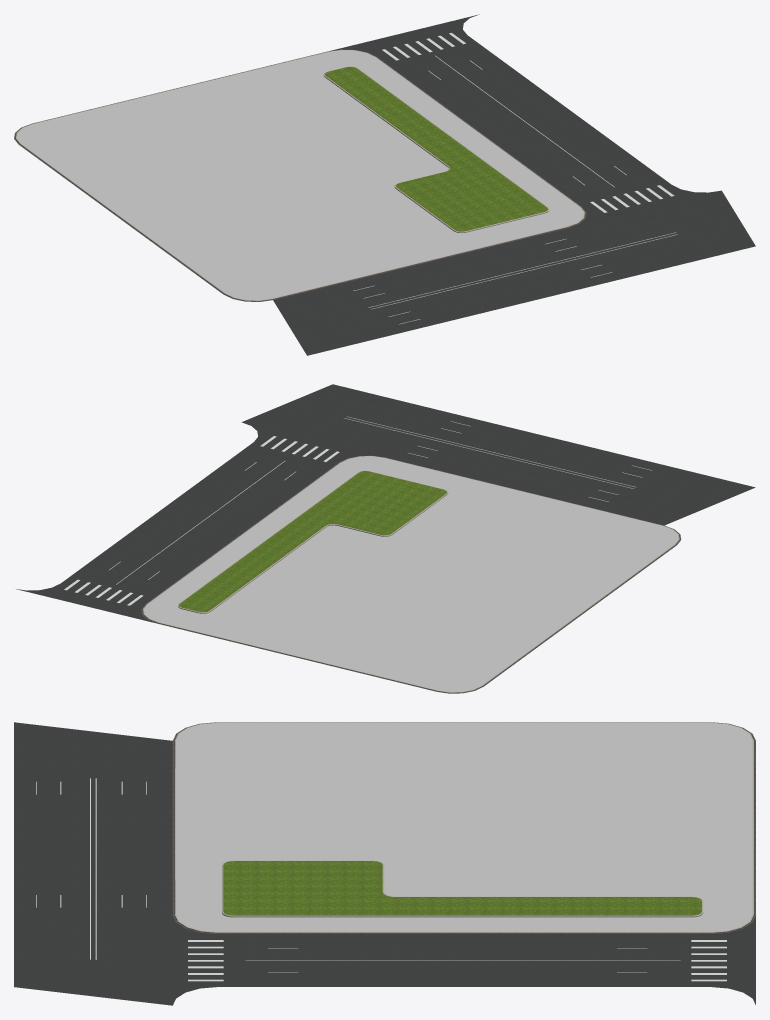
Rendered from New_Terrain_Area_22.fbx.
The picture shows the model from 3 angles, top to bottom: view 1: azimuth 30°, elevation 25°; view 2: azimuth 150°, elevation 25°; view 3: azimuth 270°, elevation 25°; orthographic projection. The views are drawn at different scales.
Visible parts, largest first — view 1: Area_22, Road_15, Road_Alpha_49, Road_Alpha_54.001; view 2: Area_22, Road_15, Road_Alpha_49, Road_Alpha_54.001; view 3: Area_22, Road_15, Road_Alpha_49, Road_Alpha_54.001.
Boxes of the visible parts, <box> form: Area_22: <box>14,49,586,301</box>; Road_15: <box>273,14,755,355</box>; Road_Alpha_49: <box>382,33,674,212</box>; Road_Alpha_54.001: <box>353,232,677,324</box>; Area_22: <box>141,455,681,693</box>; Road_15: <box>16,384,755,623</box>; Road_Alpha_49: <box>64,436,339,605</box>; Road_Alpha_54.001: <box>344,416,651,501</box>; Area_22: <box>172,722,755,933</box>; Road_15: <box>14,722,755,1005</box>; Road_Alpha_49: <box>188,940,726,981</box>; Road_Alpha_54.001: <box>36,778,146,959</box>.
Bounding box in the file's own units: 7699 × 21.84 × 8518.
